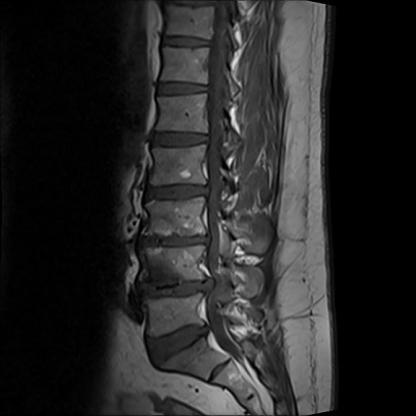Disc Bulgerotation: (143, 315, 233, 363), (132, 229, 218, 253)
